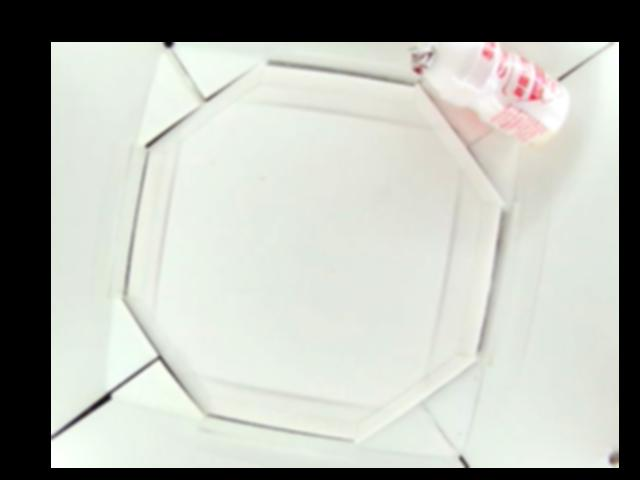Bottle: (409, 42, 571, 147)
